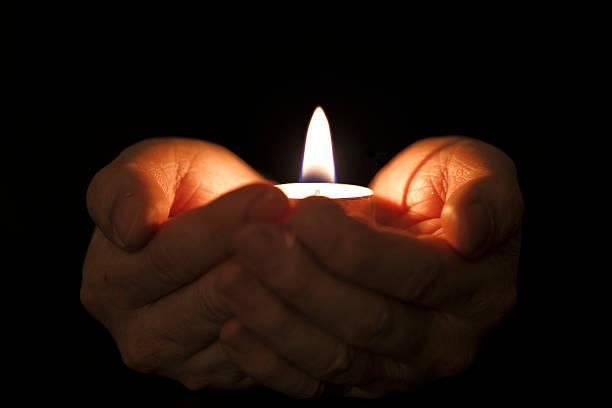Fire: (298, 102, 341, 183)
